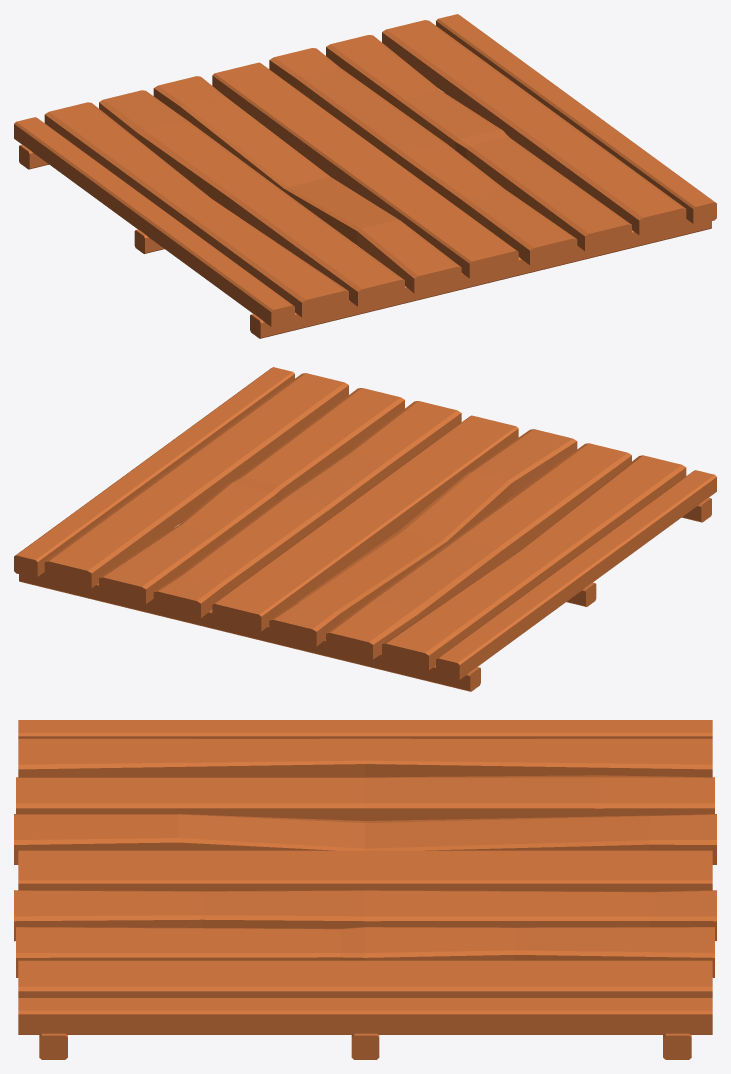
The model's file is wood_plank.glb.
The picture shows the model from 3 angles, top to bottom: view 1: azimuth 30°, elevation 25°; view 2: azimuth 150°, elevation 25°; view 3: azimuth 270°, elevation 25°; orthographic projection. The views are drawn at different scales.
Visible parts, largest first — view 1: WoodFloor3; view 2: WoodFloor3; view 3: WoodFloor3.
Boxes of the visible parts, <box> form: WoodFloor3: <box>14,14,716,338</box>; WoodFloor3: <box>14,367,716,691</box>; WoodFloor3: <box>14,720,716,1059</box>.
Size of the model in its own units: 2 by 0.1523 by 2.
